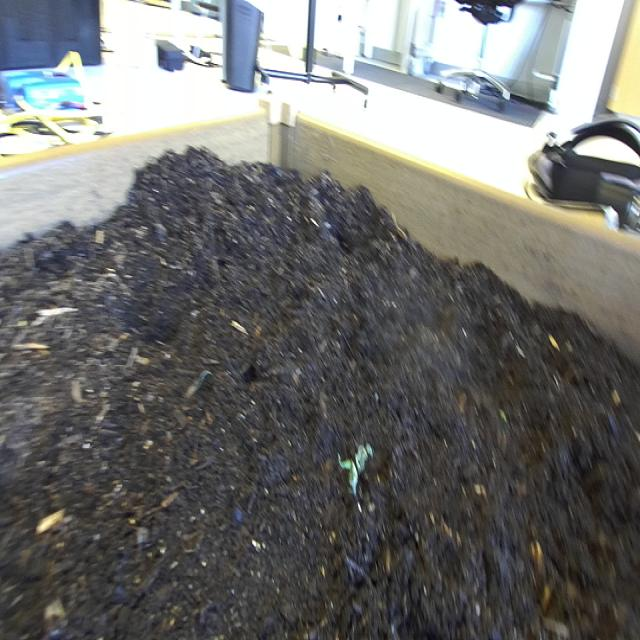Unhealthy: (334, 438, 377, 506)
